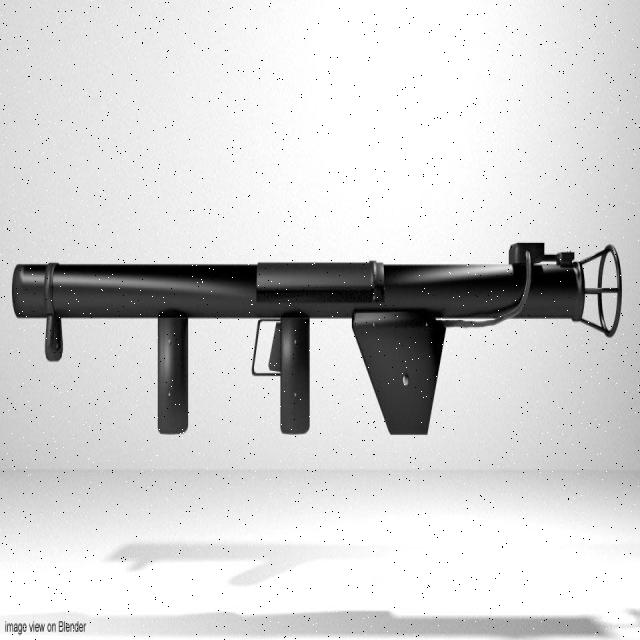bazooka: (11, 227, 626, 453)
